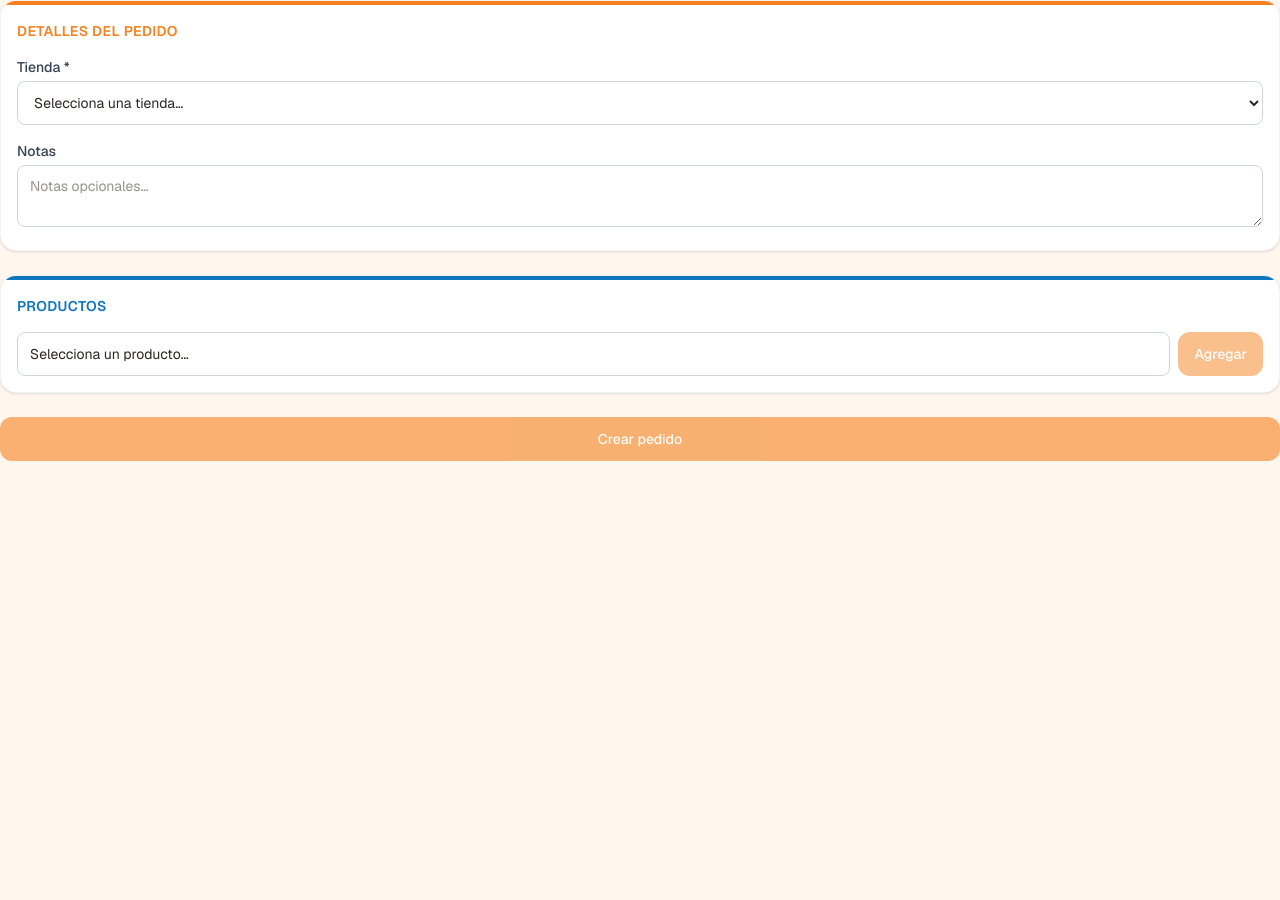
it: OrderBuilder — add item › merges duplicate productId by summing cantidad (no duplicate rows)
Click the button with aria-label "agregar producto" at [109, 354], box x1=17 y1=332 x2=1170 y2=376
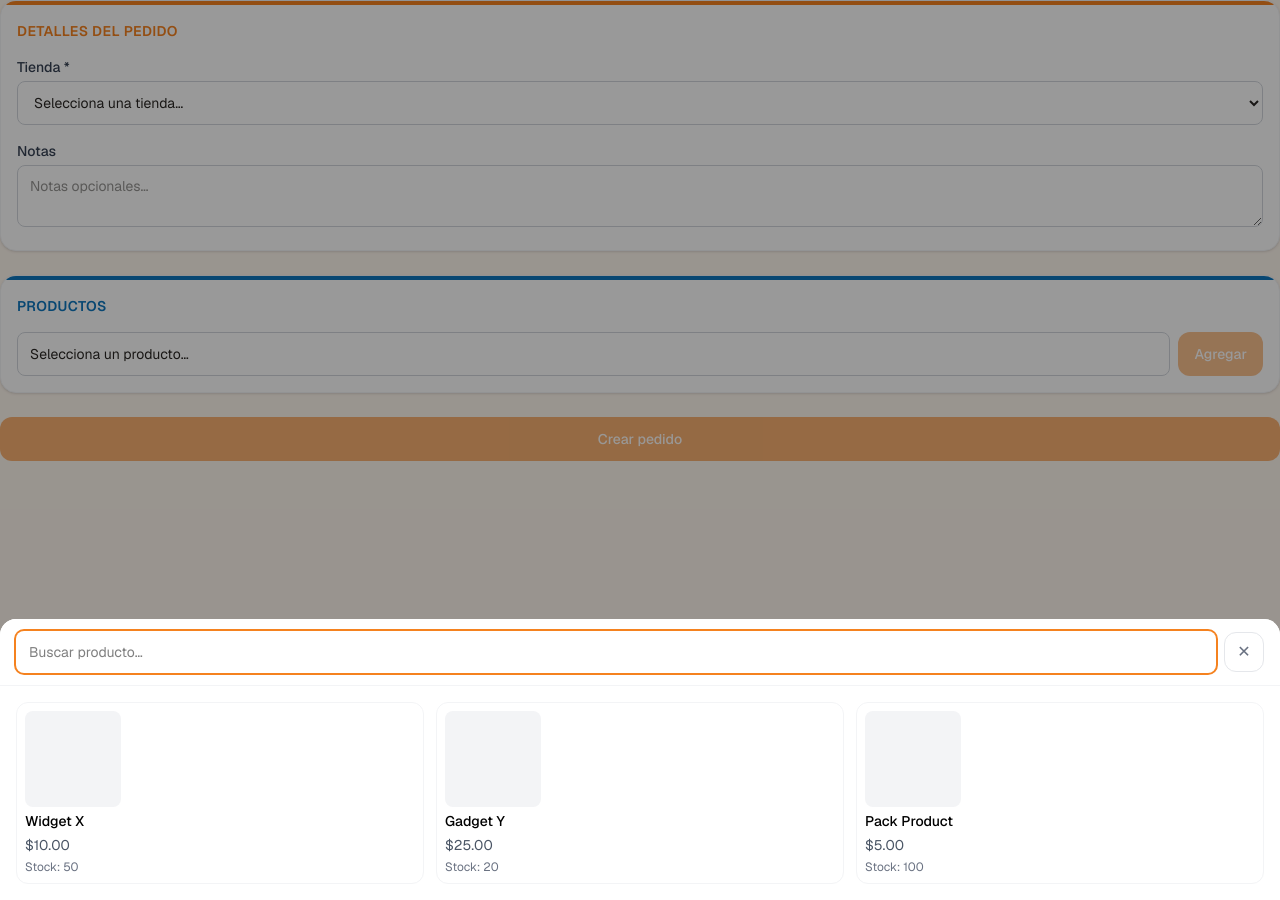
Click the button "Widget X $10.00 Stock: 50" at [73, 759], box x1=16 y1=702 x2=424 y2=884
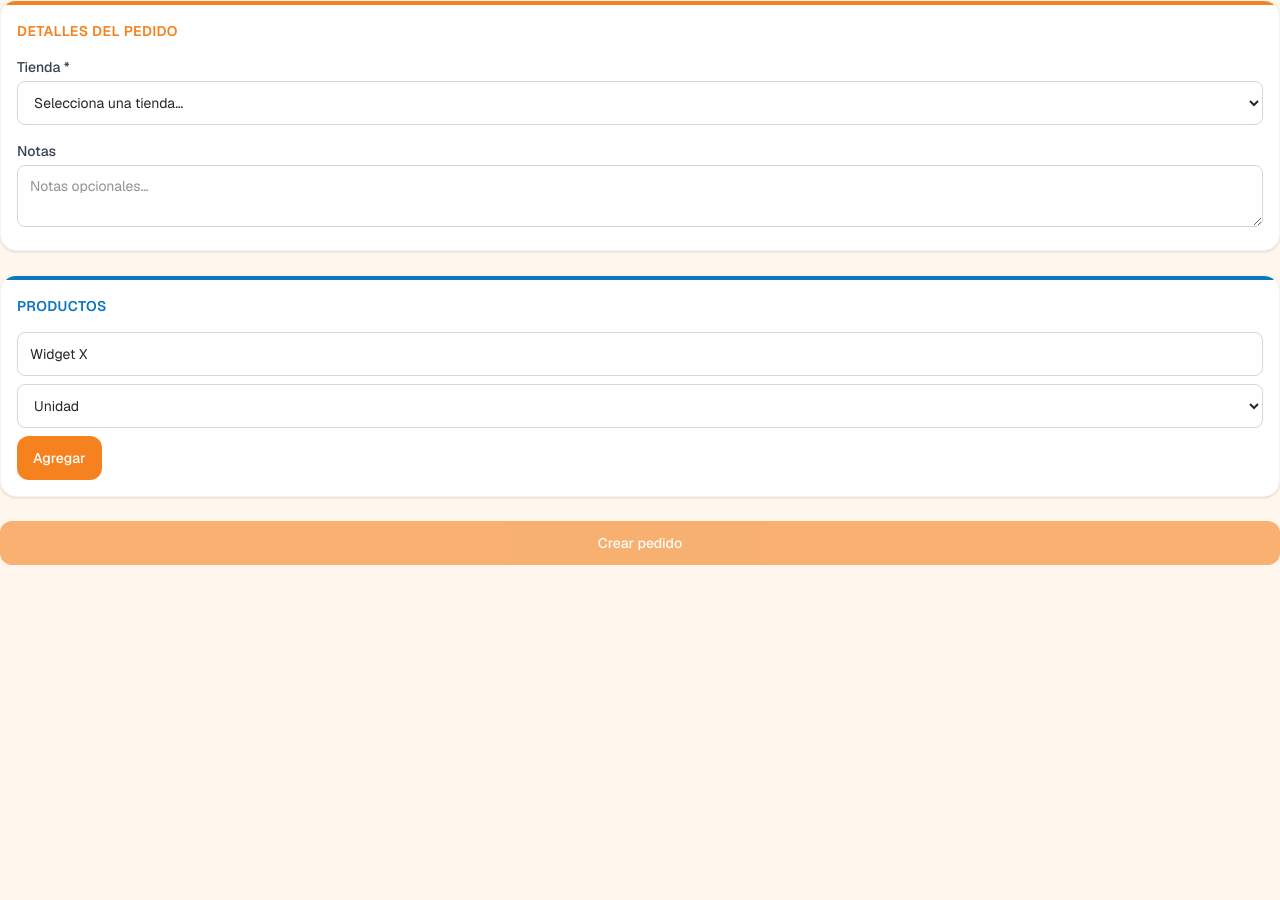
Click the button "Agregar" at [59, 458], box x1=17 y1=436 x2=102 y2=480
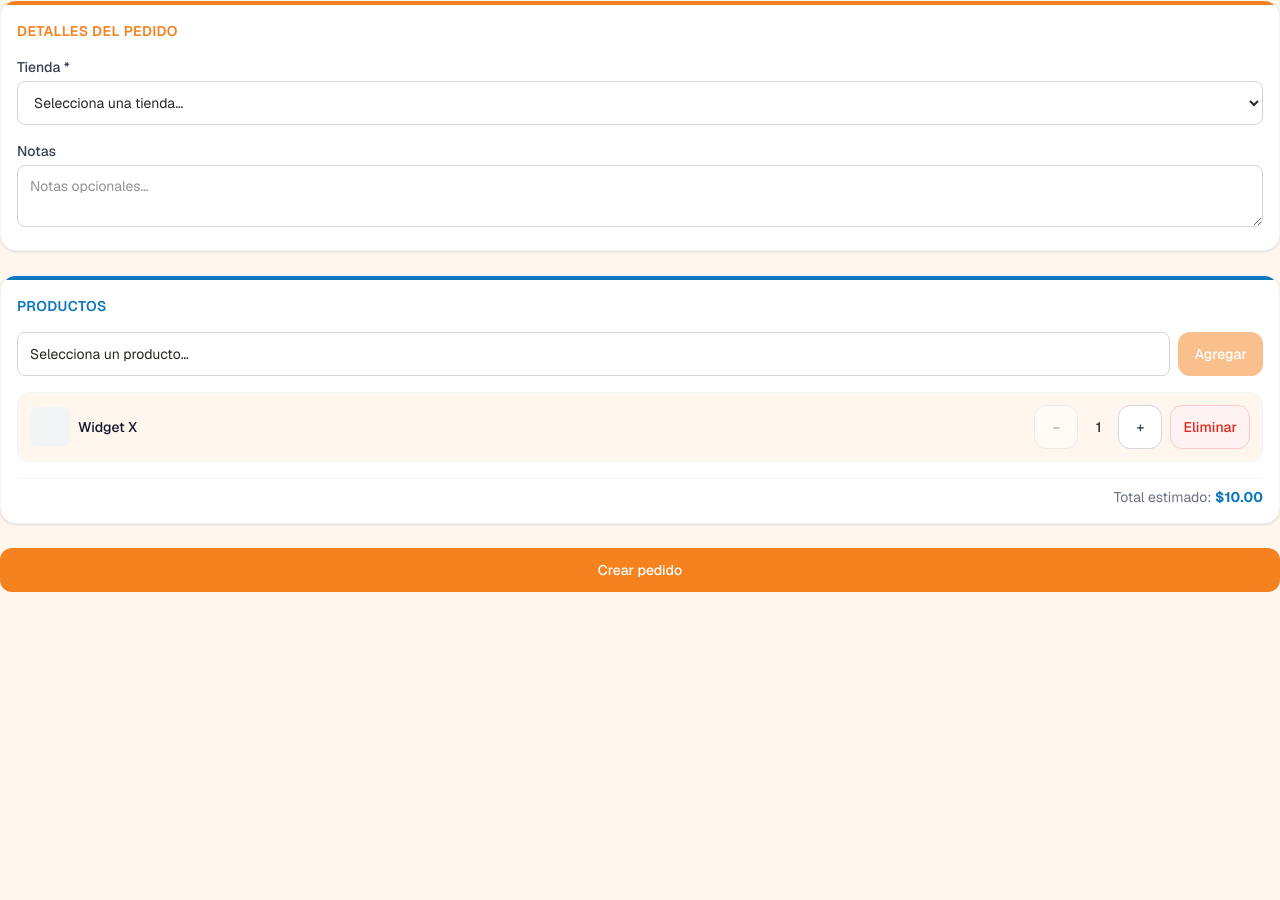
Click the button with aria-label "agregar producto" at [109, 354], box x1=17 y1=332 x2=1170 y2=376
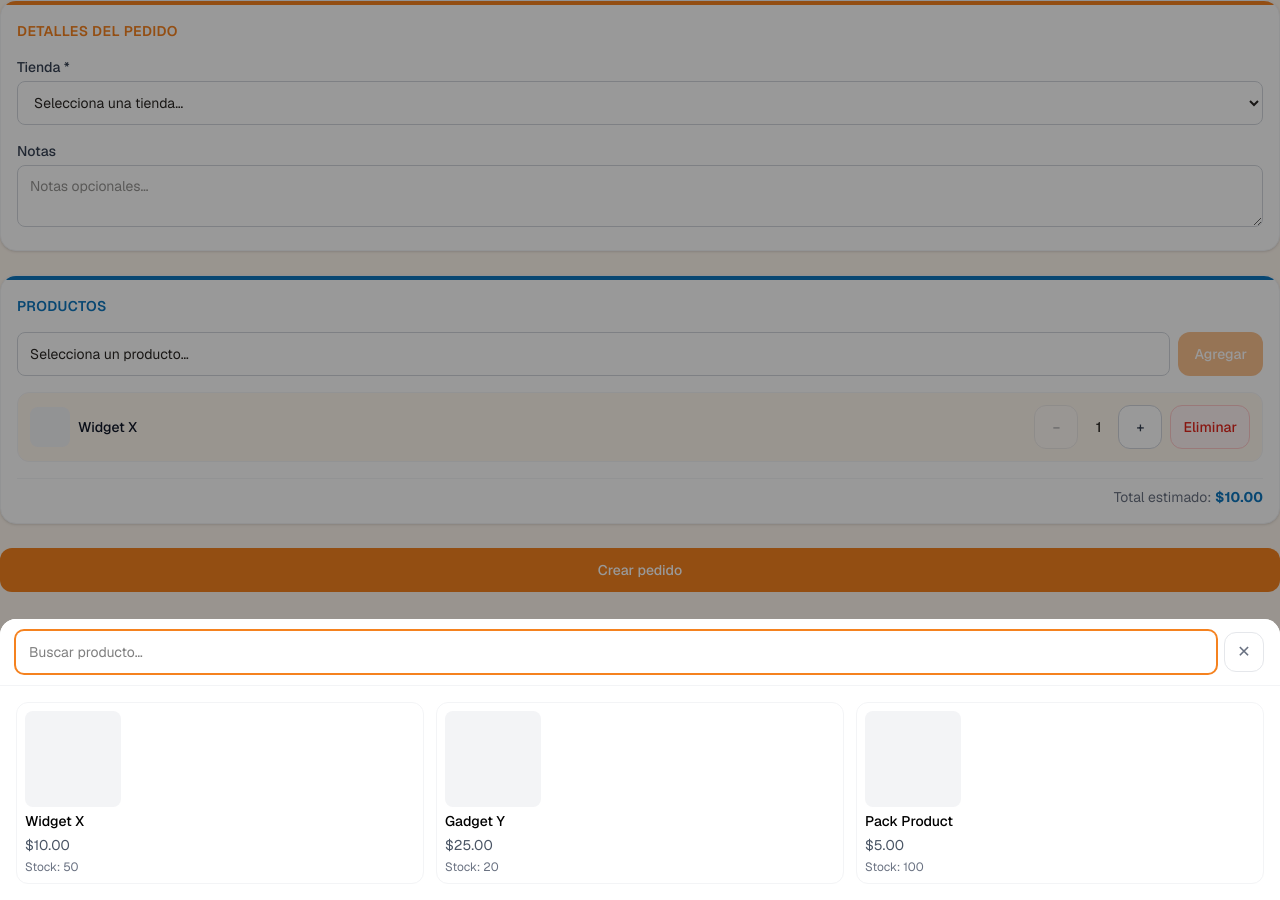
Click the button "Widget X $10.00 Stock: 50" at [73, 759], box x1=16 y1=702 x2=424 y2=884
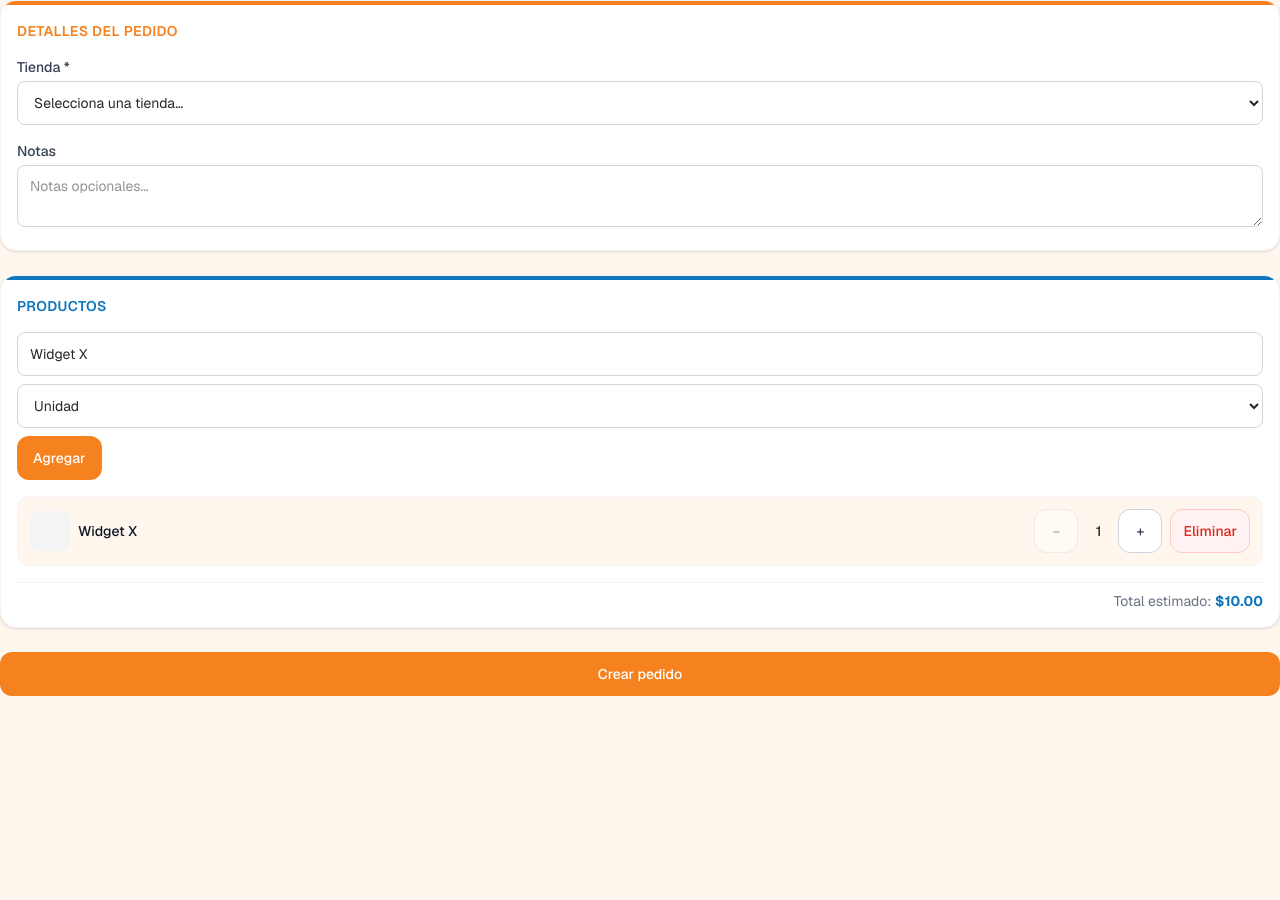
Click the button "Agregar" at [59, 458], box x1=17 y1=436 x2=102 y2=480
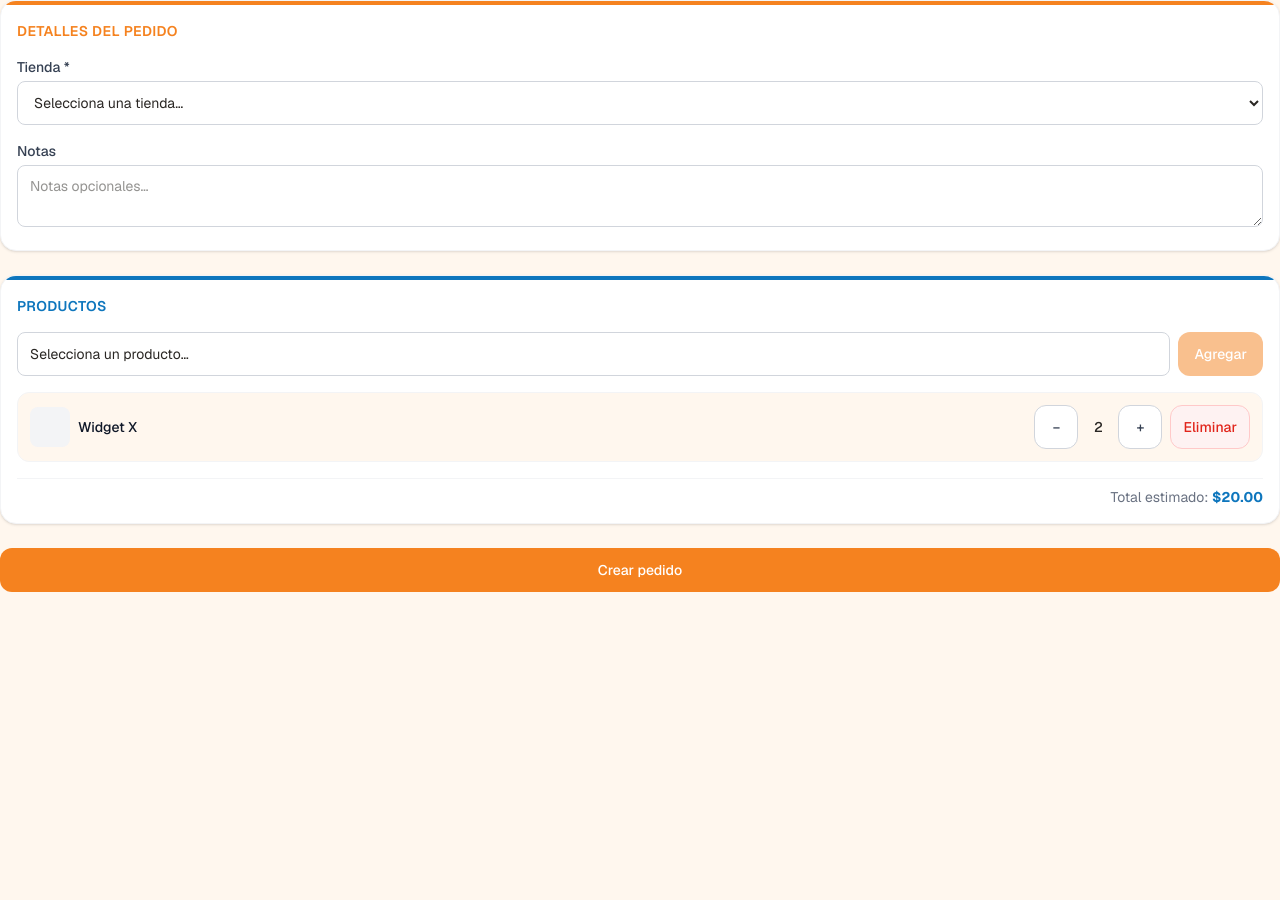
Expected: the text "Widget X" is shown once, x1=78 y1=418 x2=137 y2=436
Expected: the text "2" is shown, x1=1094 y1=418 x2=1103 y2=436
